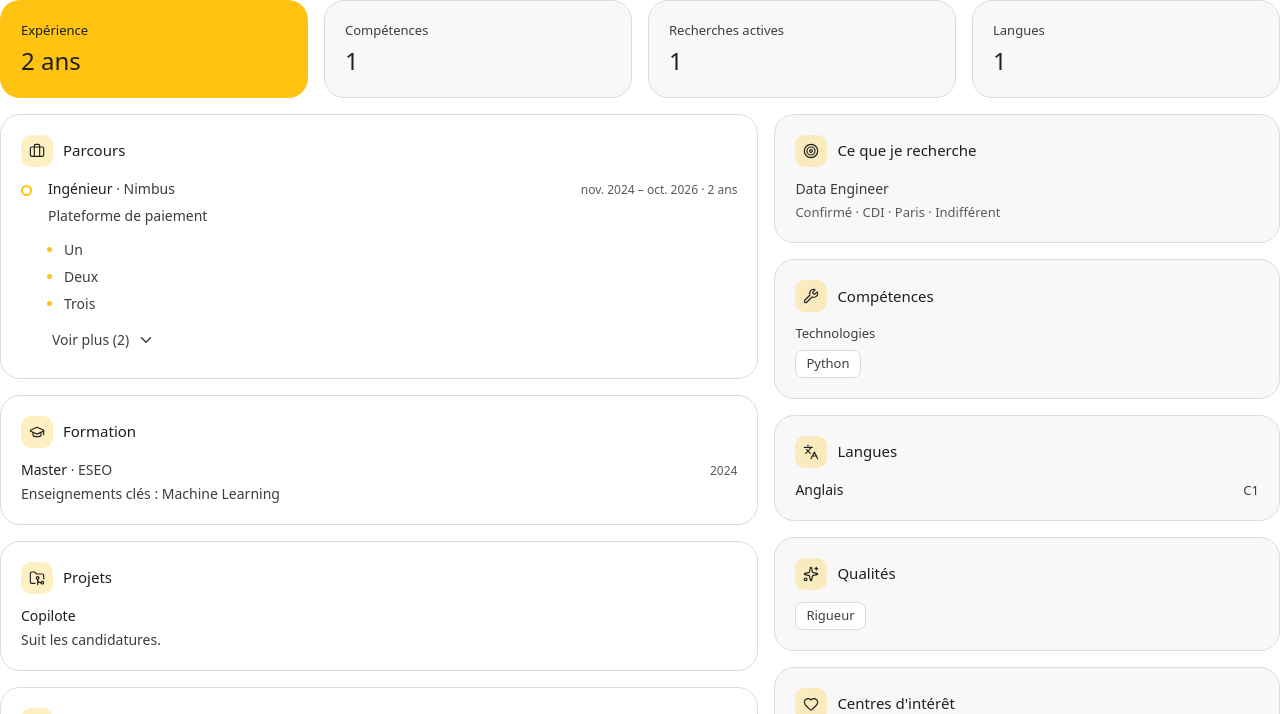
Test: profile overview › shows part of a long job, then the rest on demand
Check: the list item "Trois" is shown, box [64,294,95,313]
Check: the text "Quatre" is not shown
Click the button "Voir plus (2)" at (104, 340), box [36,322,171,358]
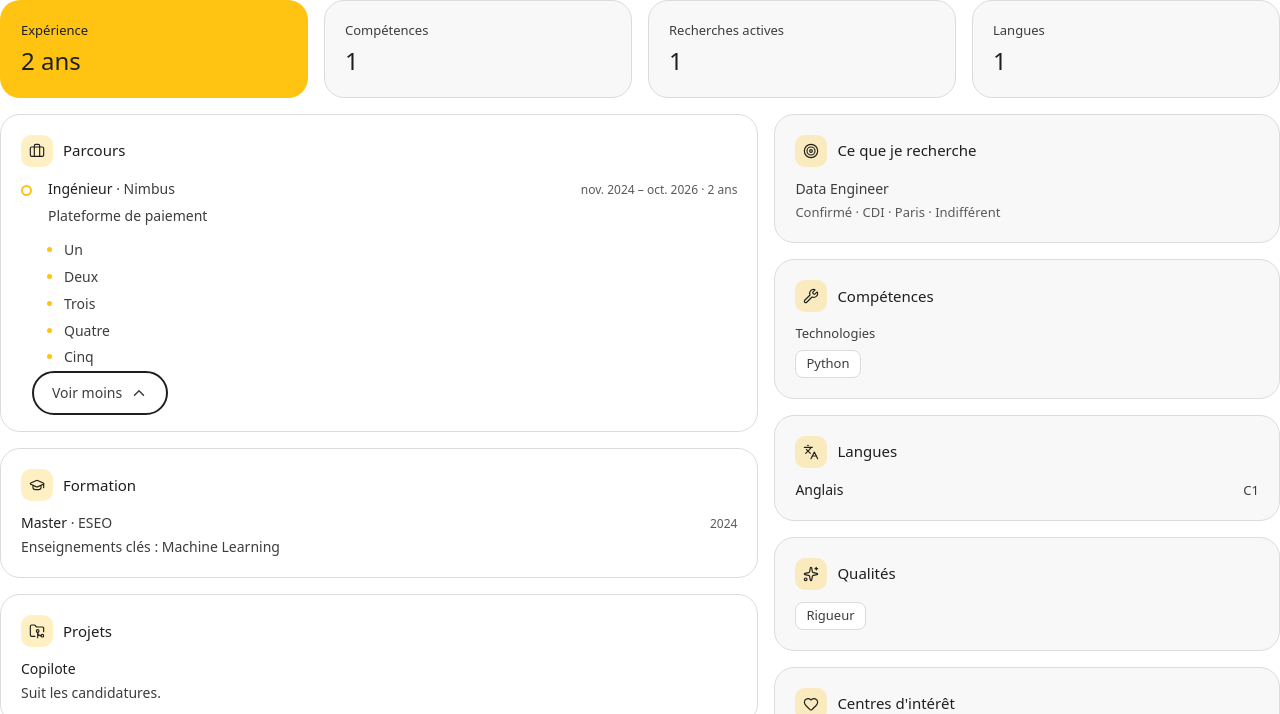
Check: the list item "Cinq" is shown, box [64,347,94,366]
Click the button "Voir moins" at (100, 393), box [36,375,164,411]
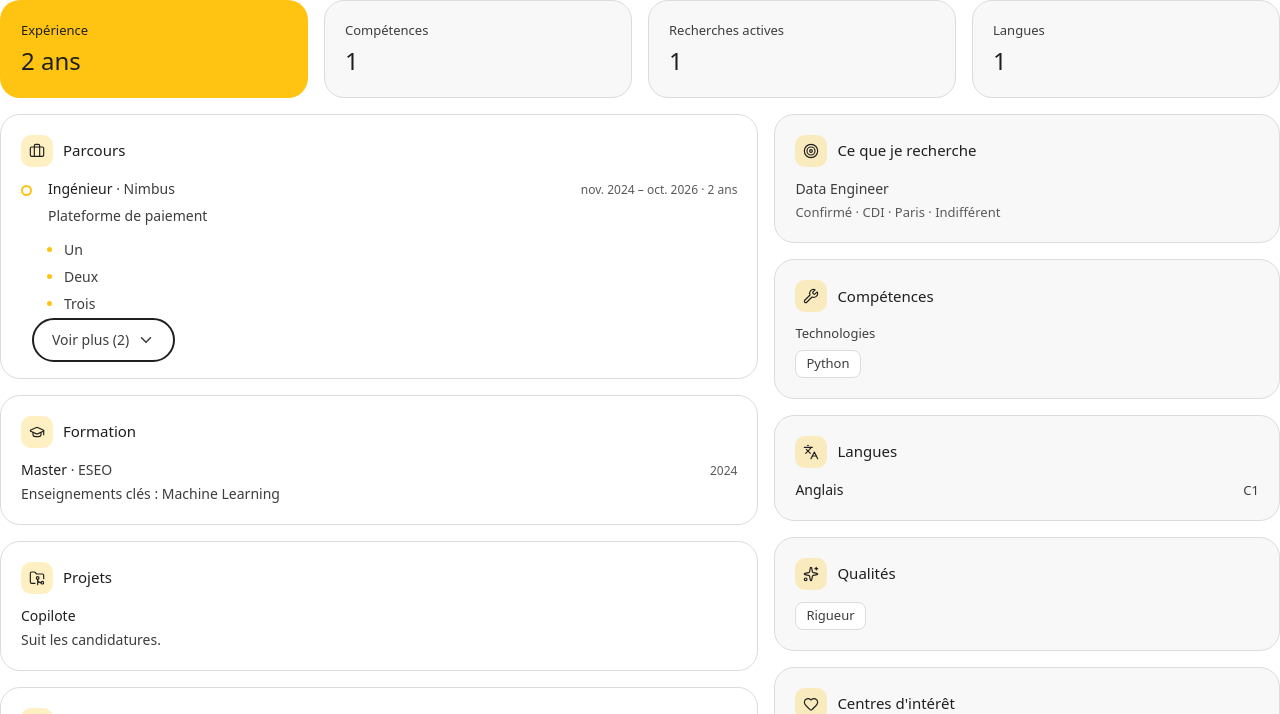
Check: the list item "Cinq" is gone
